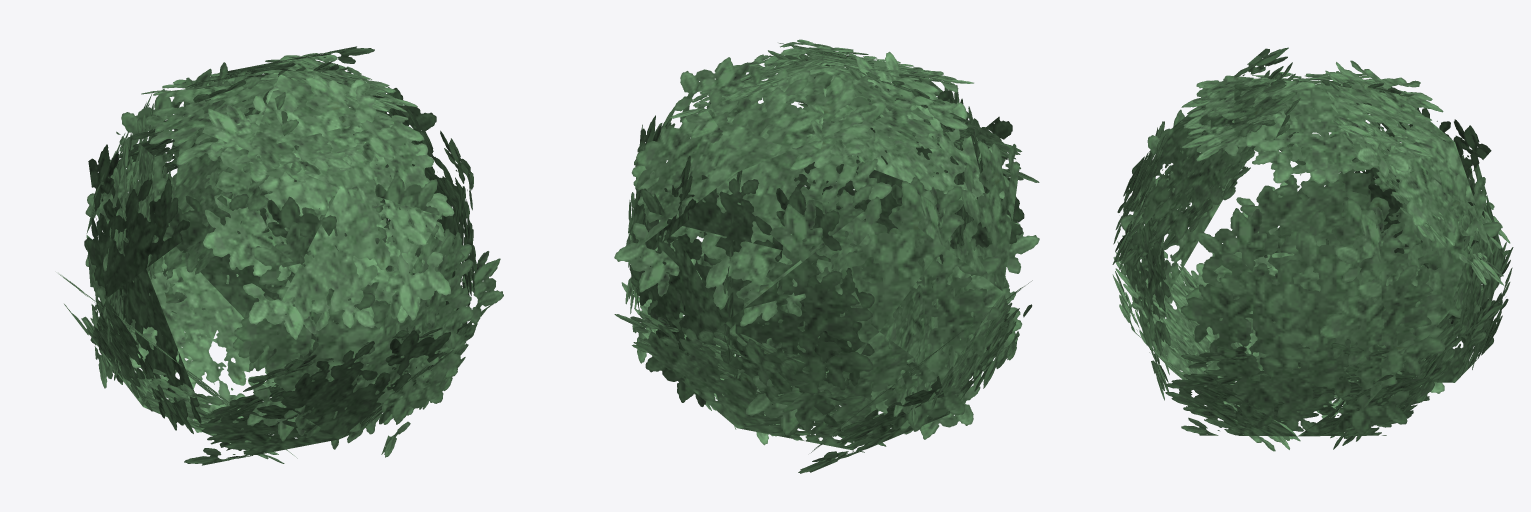
The model's file is Bush_Big.fbx.
3 renders of one model, left to right at view 1: azimuth 30°, elevation 25°; view 2: azimuth 150°, elevation 25°; view 3: azimuth 270°, elevation 25°, orthographic. The views are drawn at different scales.
Parts seen in each view (by area): view 1: Bush_Big; view 2: Bush_Big; view 3: Bush_Big.
Part boxes in pixels (<box>): Bush_Big: <box>58,46,503,465</box>; Bush_Big: <box>614,39,1039,473</box>; Bush_Big: <box>1112,47,1513,451</box>.
Bounding box in the file's own units: 22.12 × 21.13 × 22.12.
